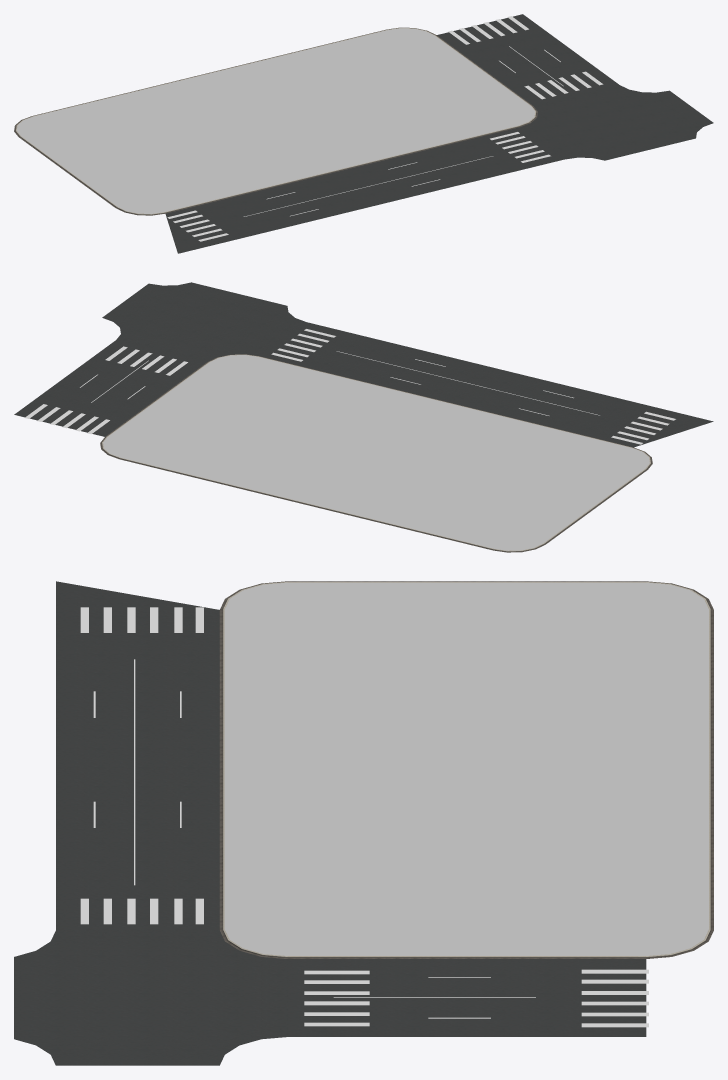
Rendered from New_Terrain_Area_19.fbx.
3 views of the same model, one above another, from view 1: azimuth 30°, elevation 25°; view 2: azimuth 150°, elevation 25°; view 3: azimuth 270°, elevation 25° (orthographic). The views are drawn at different scales.
Parts seen in each view (by area): view 1: Area_19, Road_23, Road_Alpha_65, Road_Alpha_34; view 2: Area_19, Road_23, Road_Alpha_65, Road_Alpha_34; view 3: Area_19, Road_23, Road_Alpha_34, Road_Alpha_65.
Boxes of the visible parts, <box> form: Area_19: <box>14,27,537,215</box>; Road_23: <box>165,14,713,253</box>; Road_Alpha_65: <box>167,132,550,241</box>; Road_Alpha_34: <box>448,16,603,99</box>; Area_19: <box>100,354,652,552</box>; Road_23: <box>14,282,713,447</box>; Road_Alpha_65: <box>271,329,675,444</box>; Road_Alpha_34: <box>25,346,187,434</box>; Area_19: <box>219,581,713,958</box>; Road_23: <box>14,581,646,1065</box>; Road_Alpha_34: <box>304,969,648,1027</box>; Road_Alpha_65: <box>80,607,203,924</box>.
Bounding box in the file's own units: 8527 × 7.15 × 5207.
